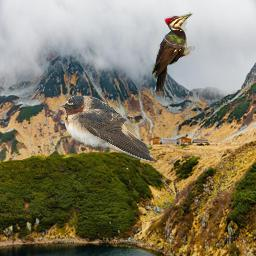Swallow: (60, 95, 158, 162)
Woodpecker: (151, 12, 195, 94)
